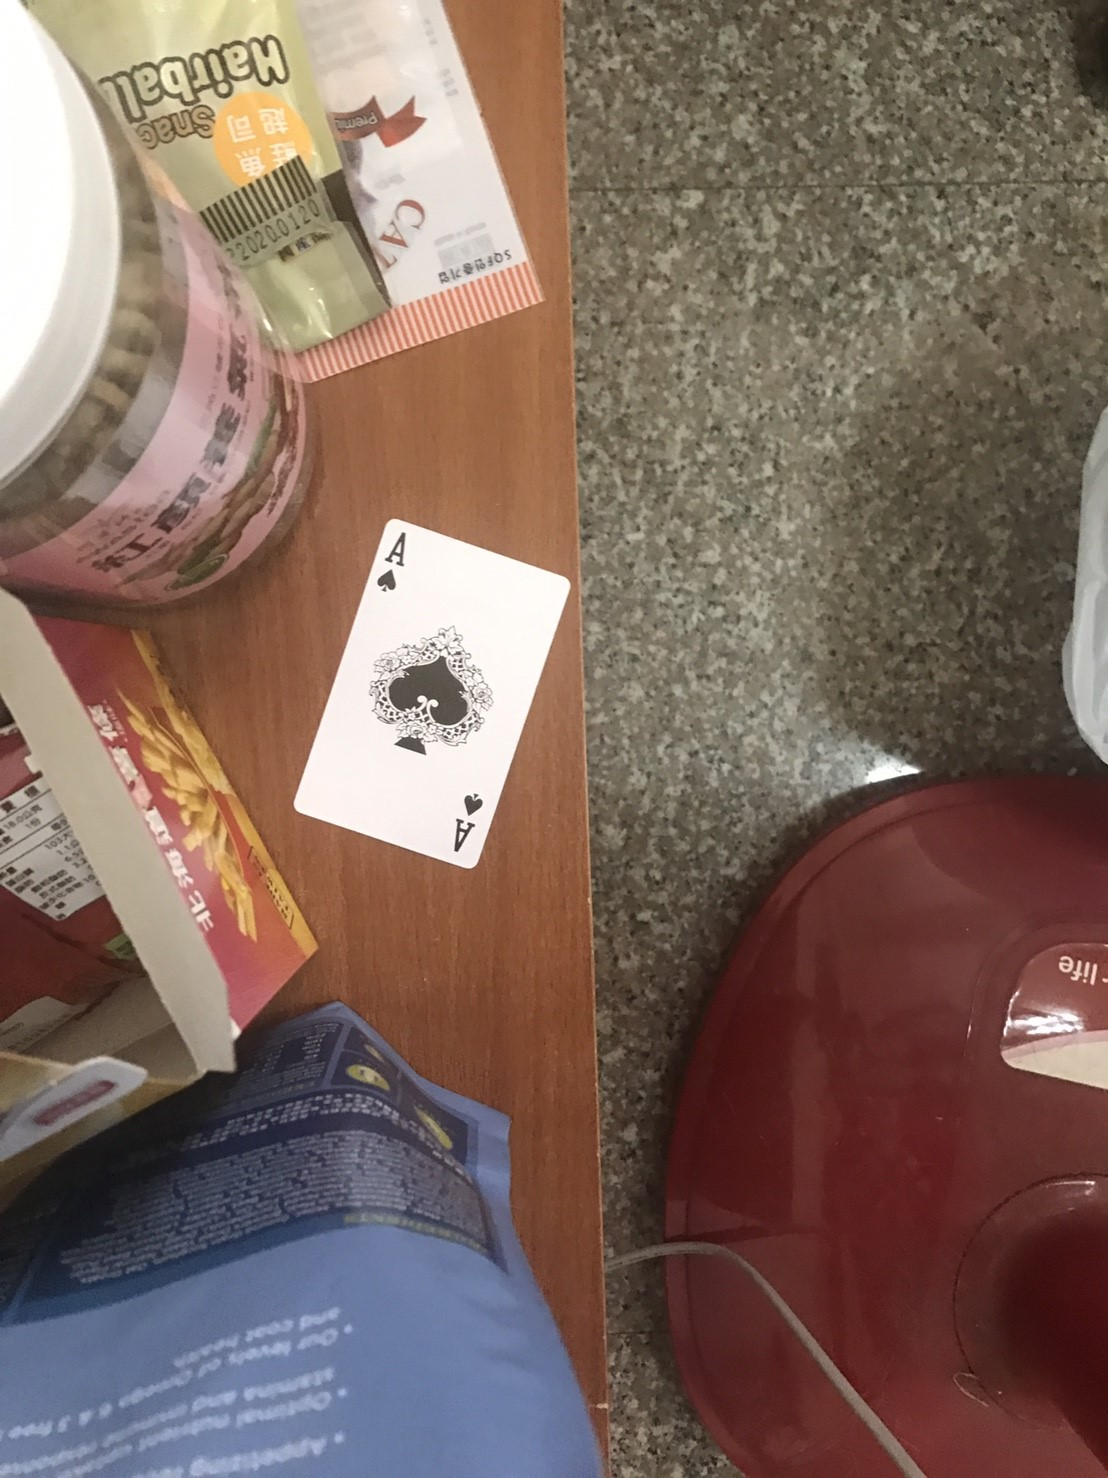spades: (367, 619, 500, 756), (368, 566, 405, 599), (455, 787, 489, 823)
